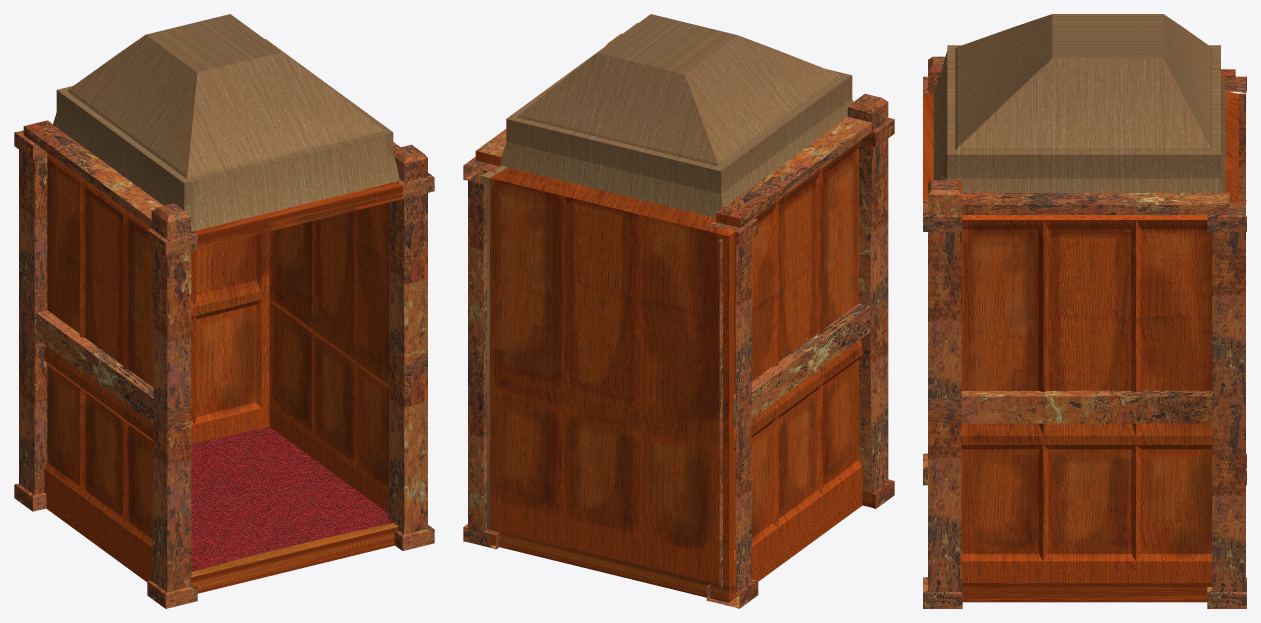
Rendered from elevator.fbx.
3 renders of one model, left to right at view 1: azimuth 30°, elevation 25°; view 2: azimuth 150°, elevation 25°; view 3: azimuth 270°, elevation 25°, orthographic. The views are drawn at different scales.
Visible parts, largest first — view 1: Cube; view 2: Cube; view 3: Cube.
Part boxes in pixels (<box>): Cube: <box>14,14,434,608</box>; Cube: <box>463,14,894,608</box>; Cube: <box>923,14,1246,608</box>.
Size of the model in its own units: 441 by 752 by 429.
